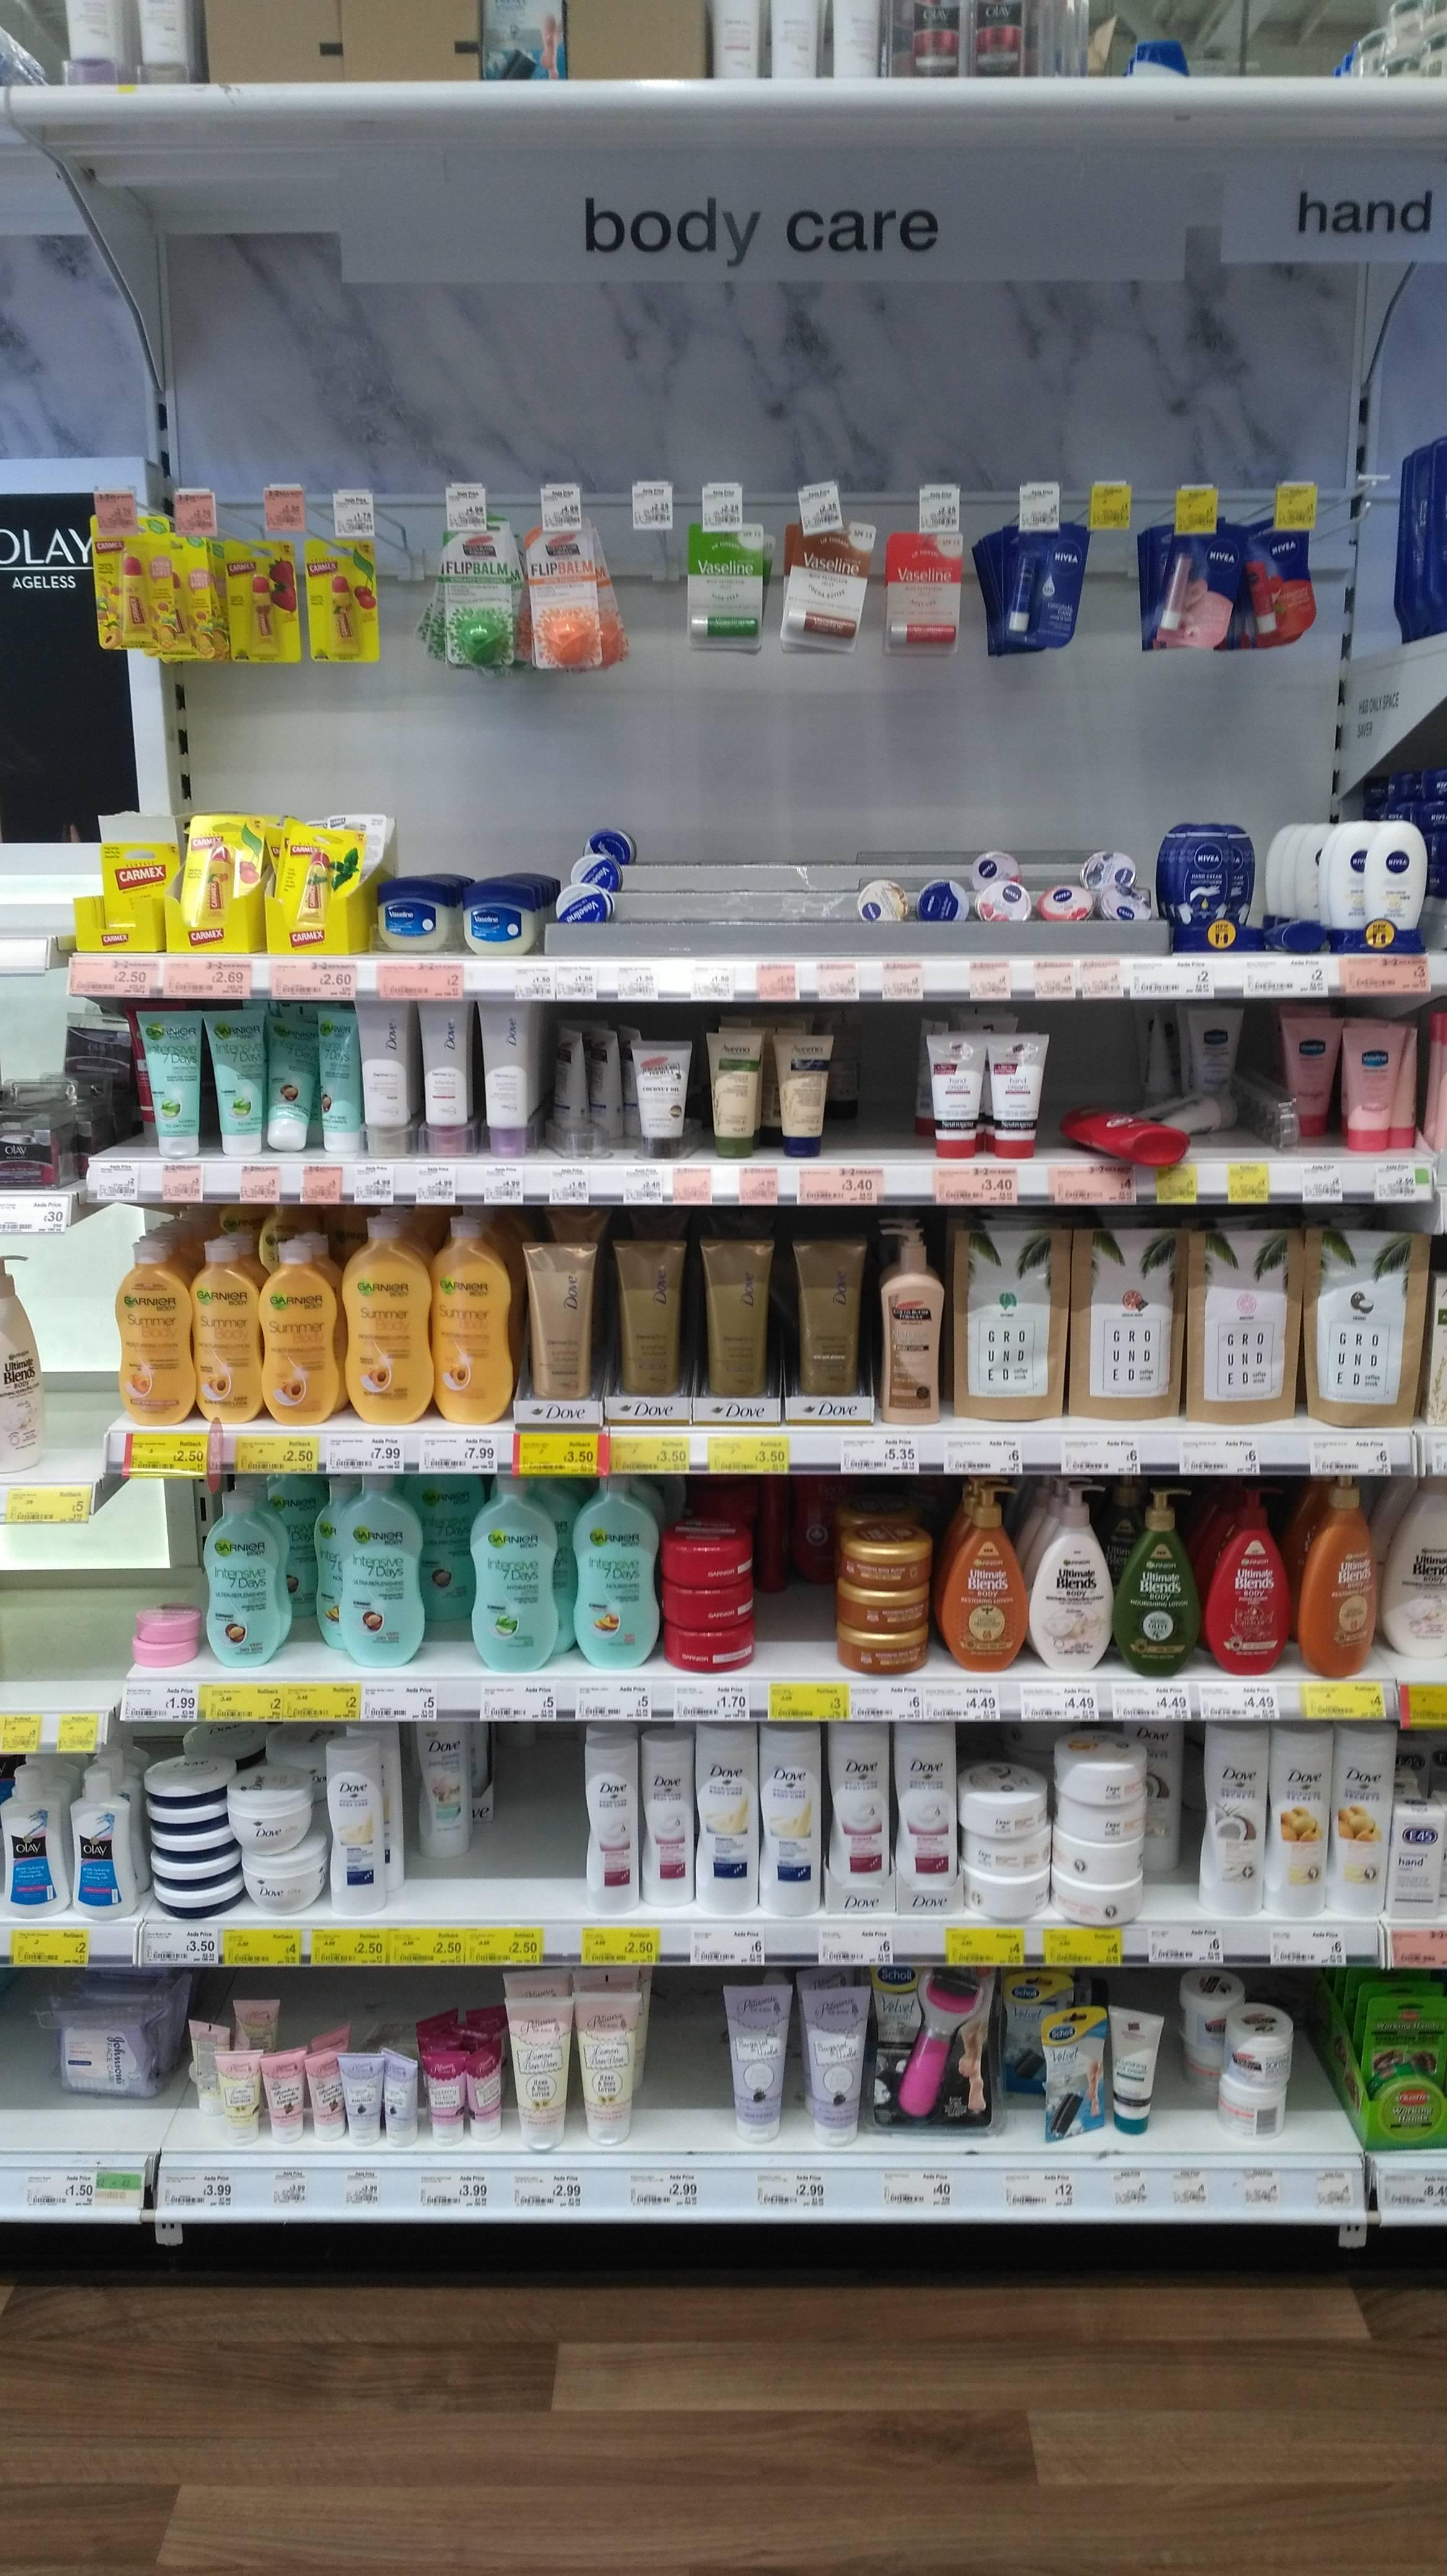misalignment: (547, 1019, 630, 1155), (1056, 1113, 1203, 1180), (258, 1012, 322, 1150), (1035, 2015, 1102, 2141), (1378, 1024, 1426, 1159), (182, 2013, 228, 2111)
